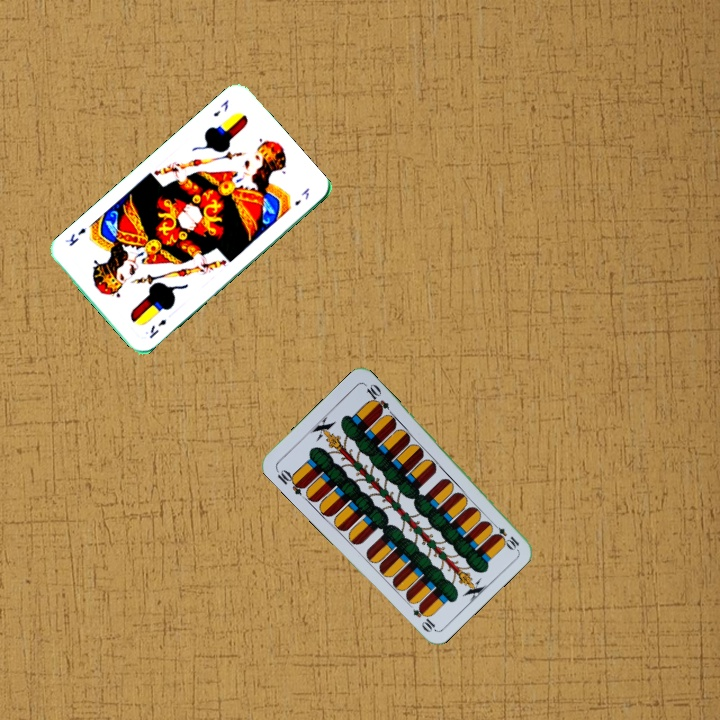E10: (487, 518, 522, 552), (272, 465, 308, 498)
EK: (145, 315, 169, 341), (209, 96, 231, 119)
